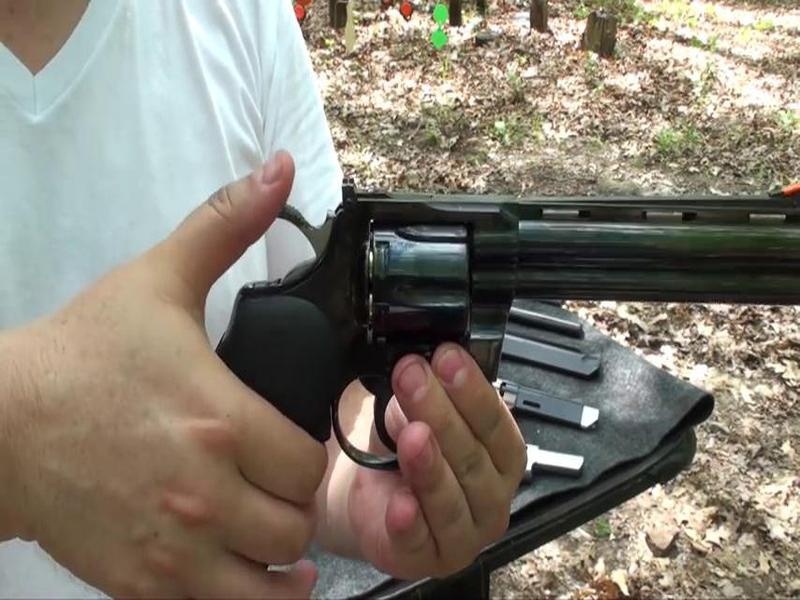Revolver: (241, 157, 800, 431)
